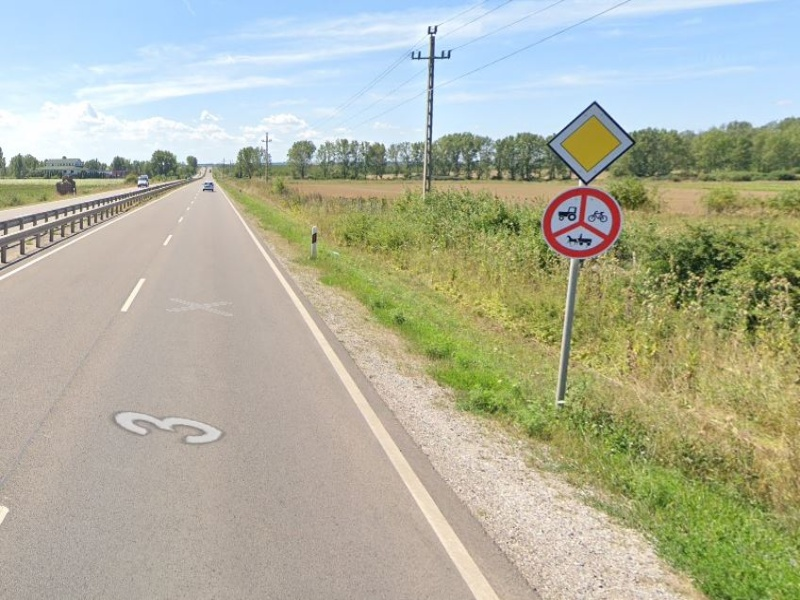fout: (544, 103, 635, 187)
